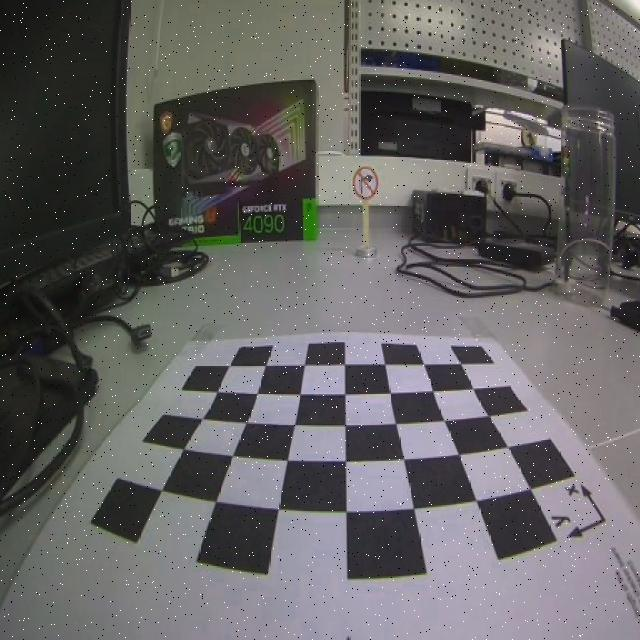Dilarang Belok Kanan: (353, 167, 378, 199)
